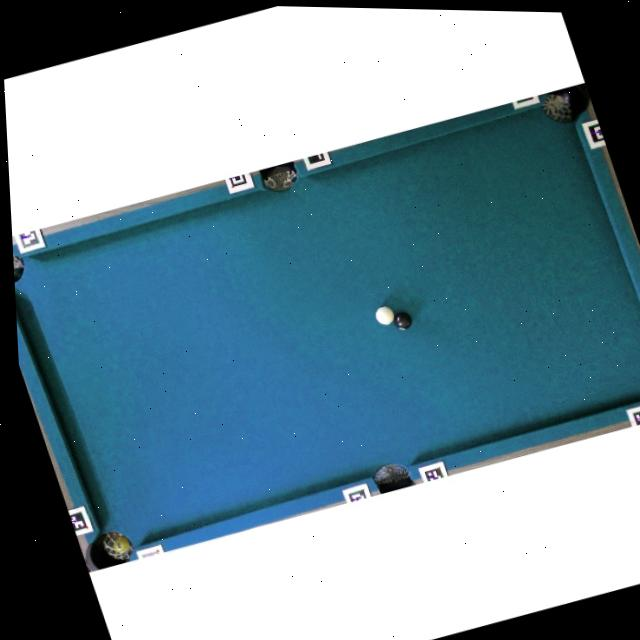cue ball: (372, 303, 397, 327)
other: (390, 308, 414, 332)
